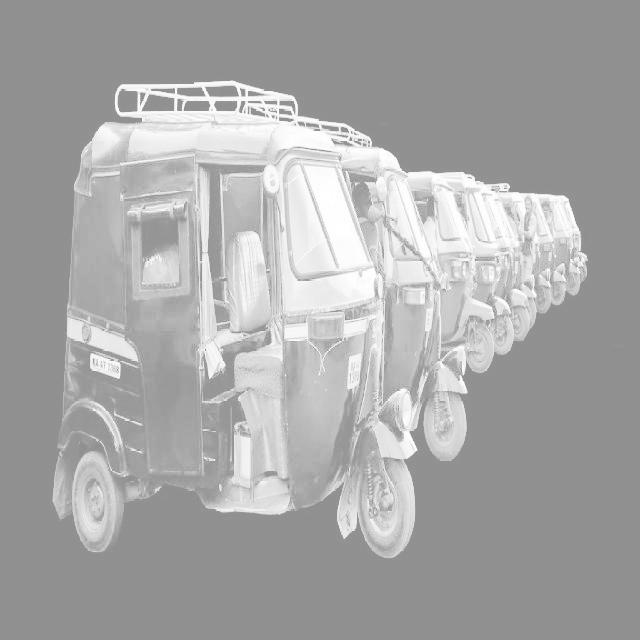Auto-Rickshaw: (69, 95, 417, 603), (330, 143, 472, 477), (411, 156, 500, 405), (447, 167, 532, 363), (508, 181, 588, 313)
